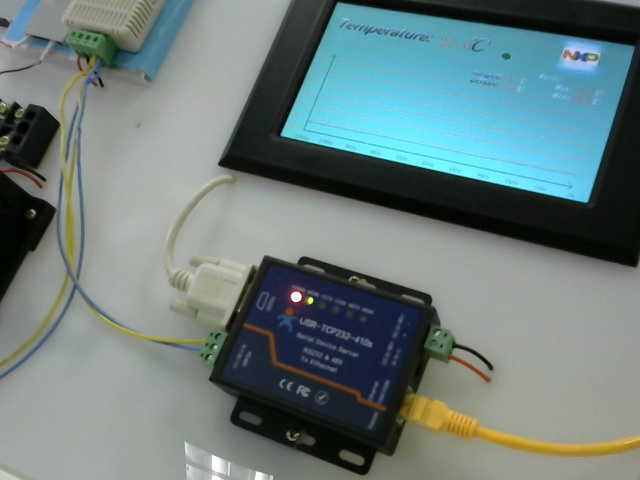modbus bridge: (205, 249, 433, 459)
